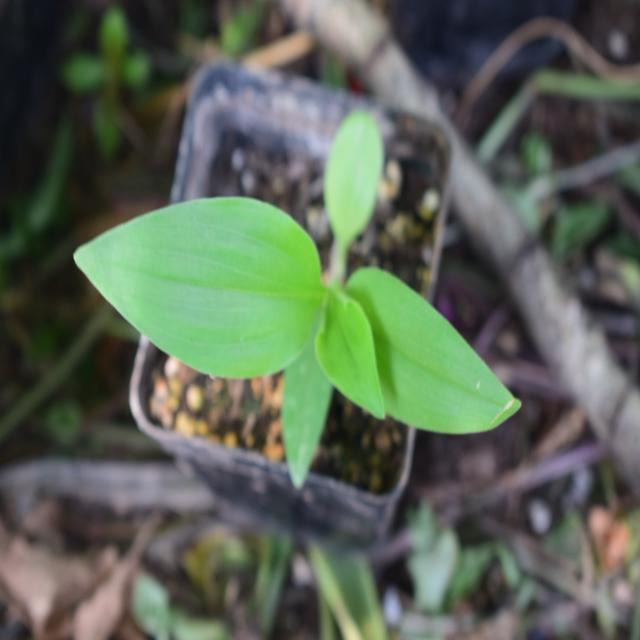Common Dayflower: (85, 147, 501, 497)
